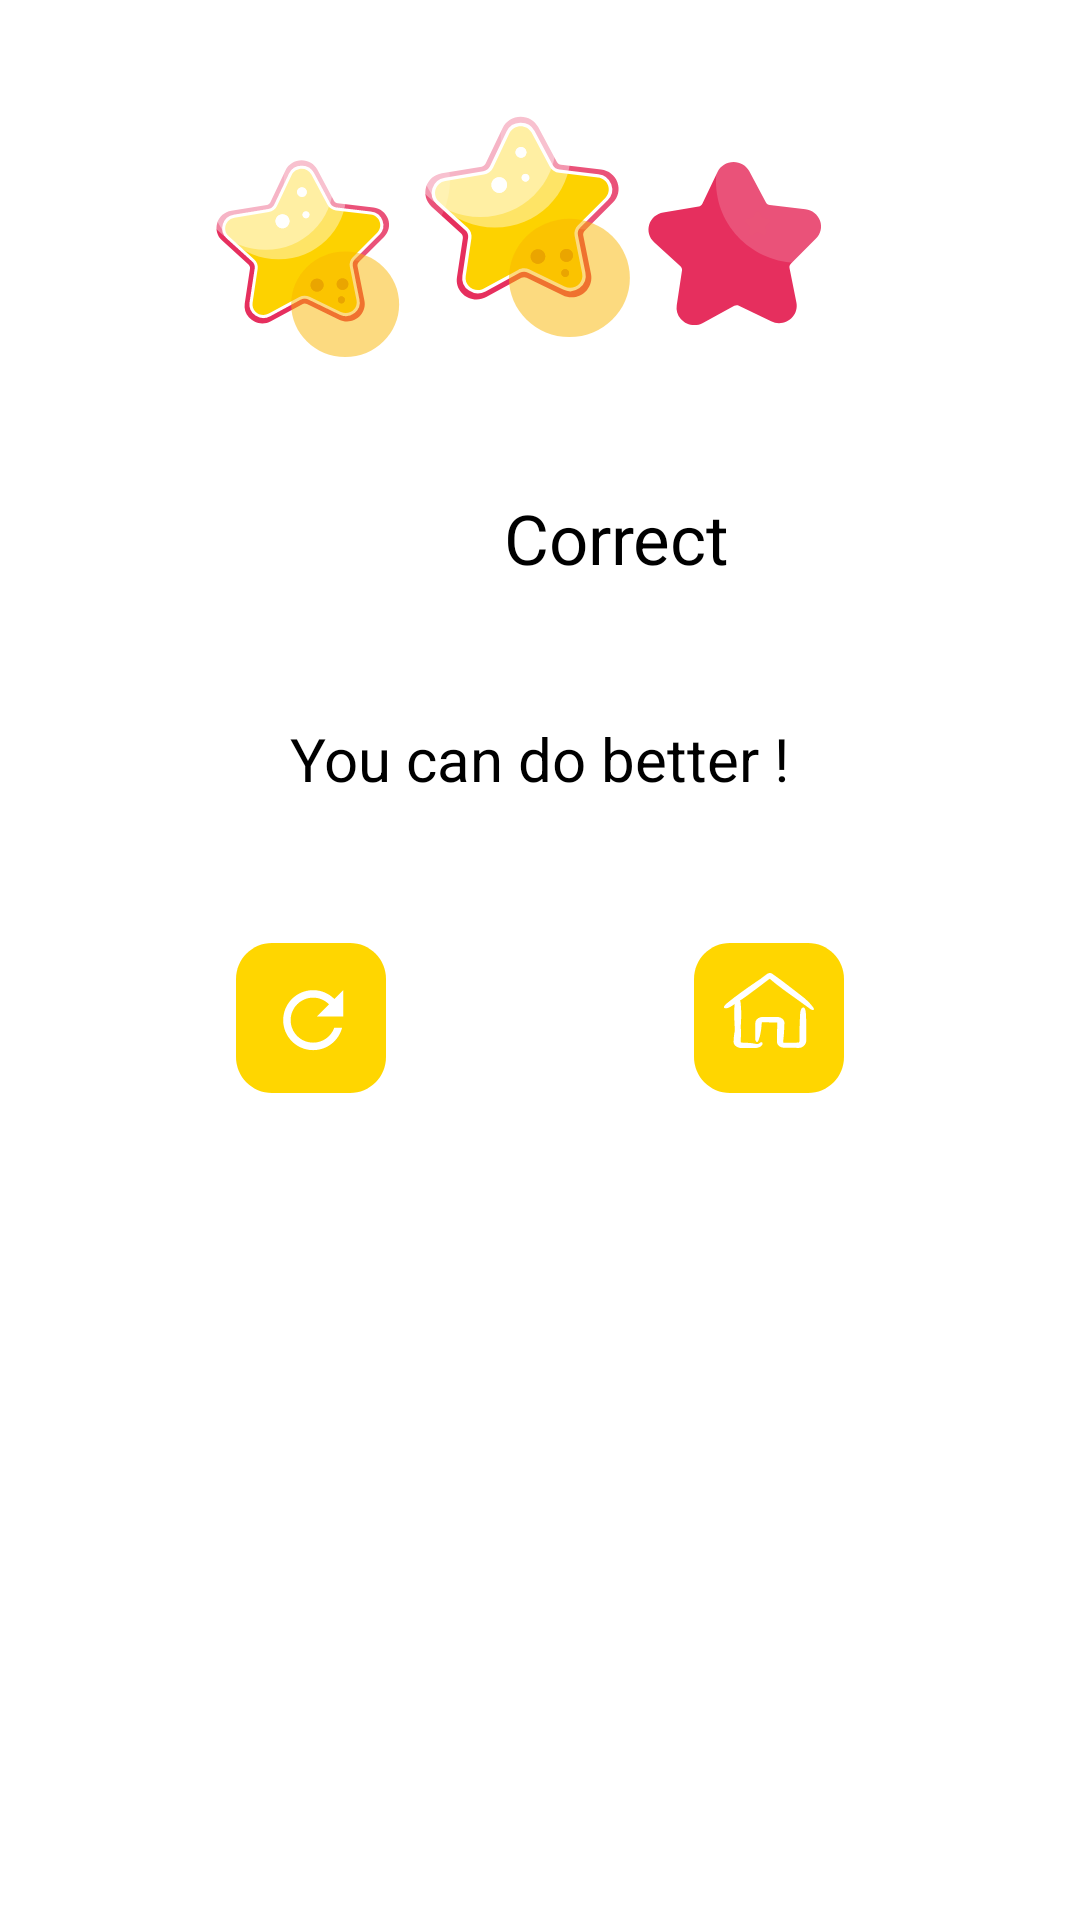

Locate icon controls on the screen. Image size 1080*1920, boxes as bbox=[x1, y1, x2, y2].
again: bbox=[236, 943, 386, 1093]
gotohome: bbox=[694, 943, 844, 1093]
